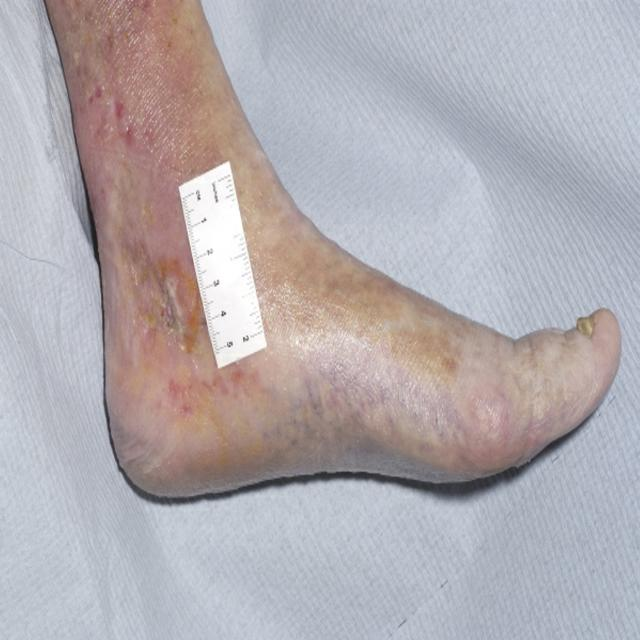wound: (118, 222, 196, 453)
